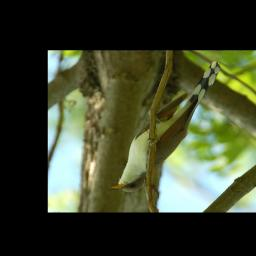Cuckoo: (110, 62, 219, 192)
